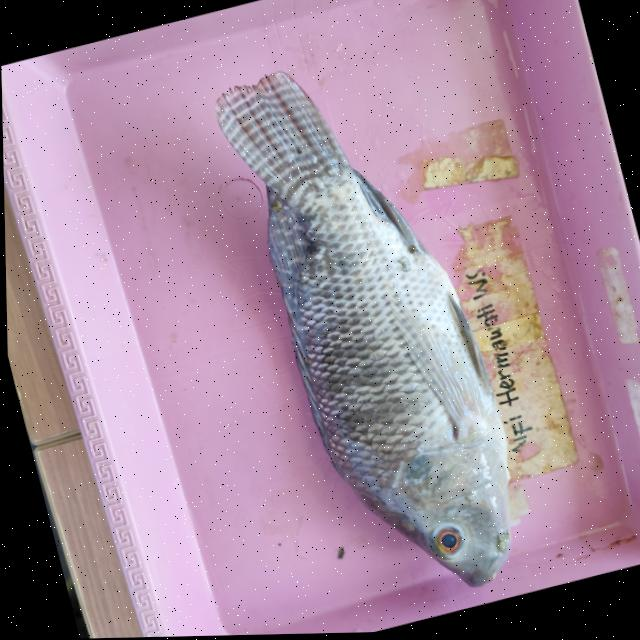Fresh: (264, 234, 531, 553), (418, 514, 472, 568)
